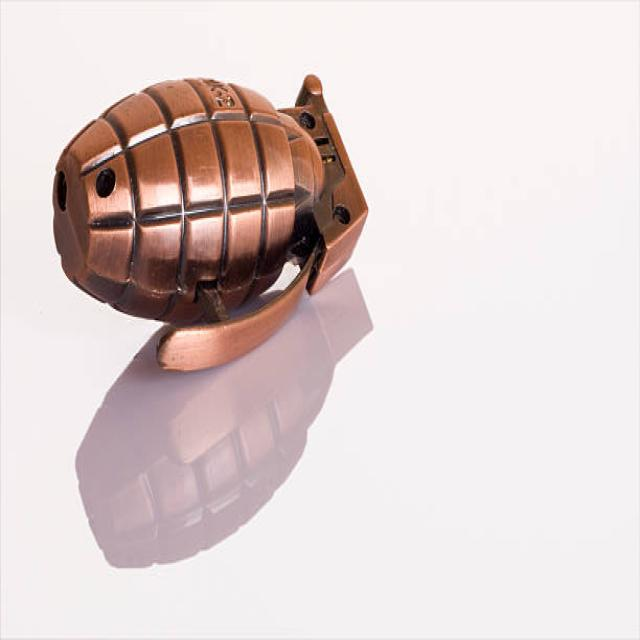grenade: (50, 65, 372, 373)
